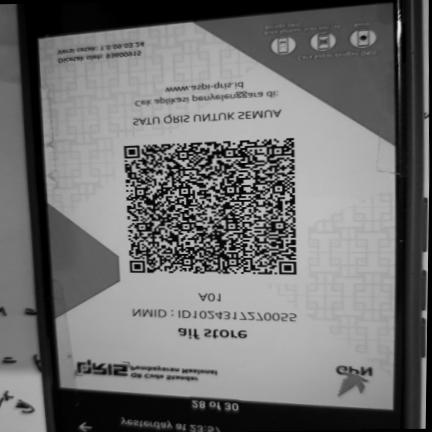Cara Pakai QRIS: (257, 5, 385, 67)
Cek Aplikasi Penyelenggara: (128, 74, 288, 113)
Dicetak Oleh: (54, 48, 148, 65)
Logo GPN: (326, 359, 379, 402)
Logo dan deskripsi QRIS: (68, 355, 231, 392)
Nama Merchant: (169, 324, 257, 345)
National Merchant ID: (122, 303, 312, 326)
QR Code: (116, 132, 304, 280)
Slogan: (128, 105, 290, 128)
Terminal ID: (190, 290, 232, 305)
Versi Cetak: (54, 38, 149, 57)
